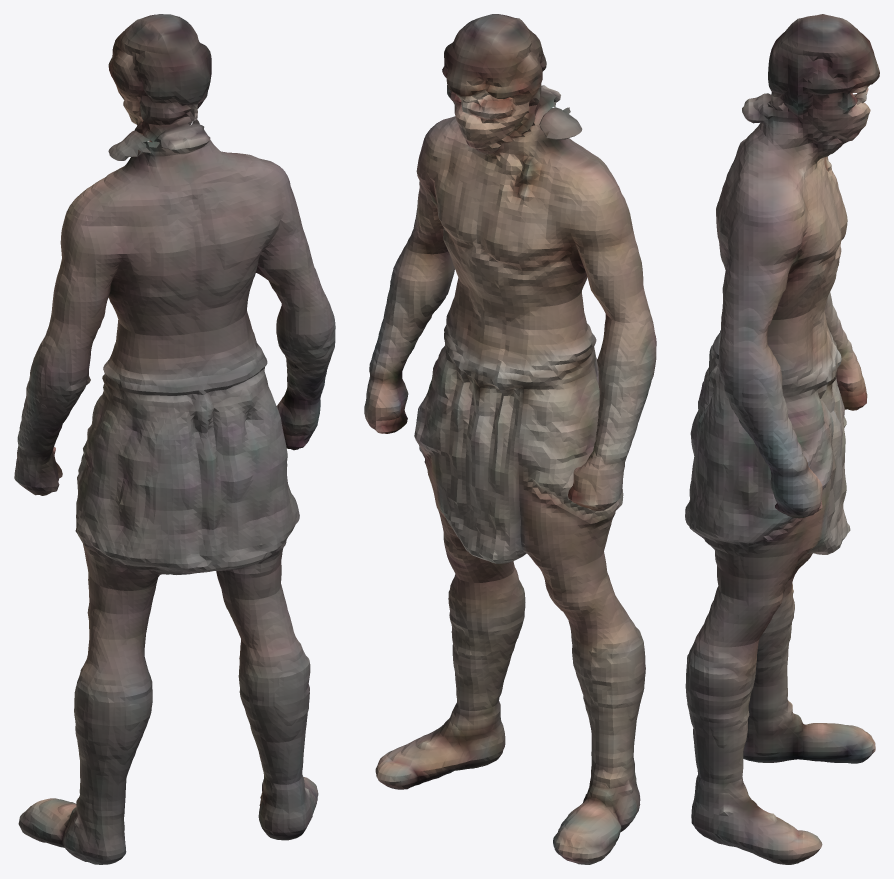
Rendered from boy_0.glb.
3 renders of one model, left to right at view 1: azimuth 30°, elevation 25°; view 2: azimuth 150°, elevation 25°; view 3: azimuth 270°, elevation 25°, orthographic. The views are drawn at different scales.
Visible parts, largest first — view 1: world; view 2: world; view 3: world.
Part boxes in pixels (<box>): world: <box>14,14,335,864</box>; world: <box>364,14,656,864</box>; world: <box>685,14,879,864</box>.
Bounding box in the file's own units: 0.3527 × 0.9599 × 0.2144.
